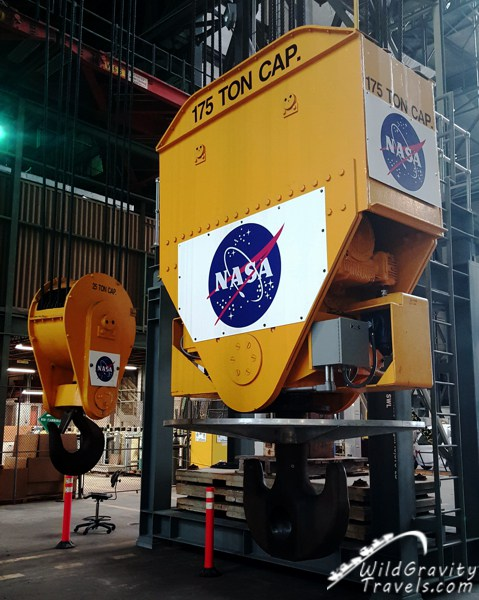NASA: (196, 218, 289, 327), (373, 110, 427, 193), (91, 354, 117, 384)
